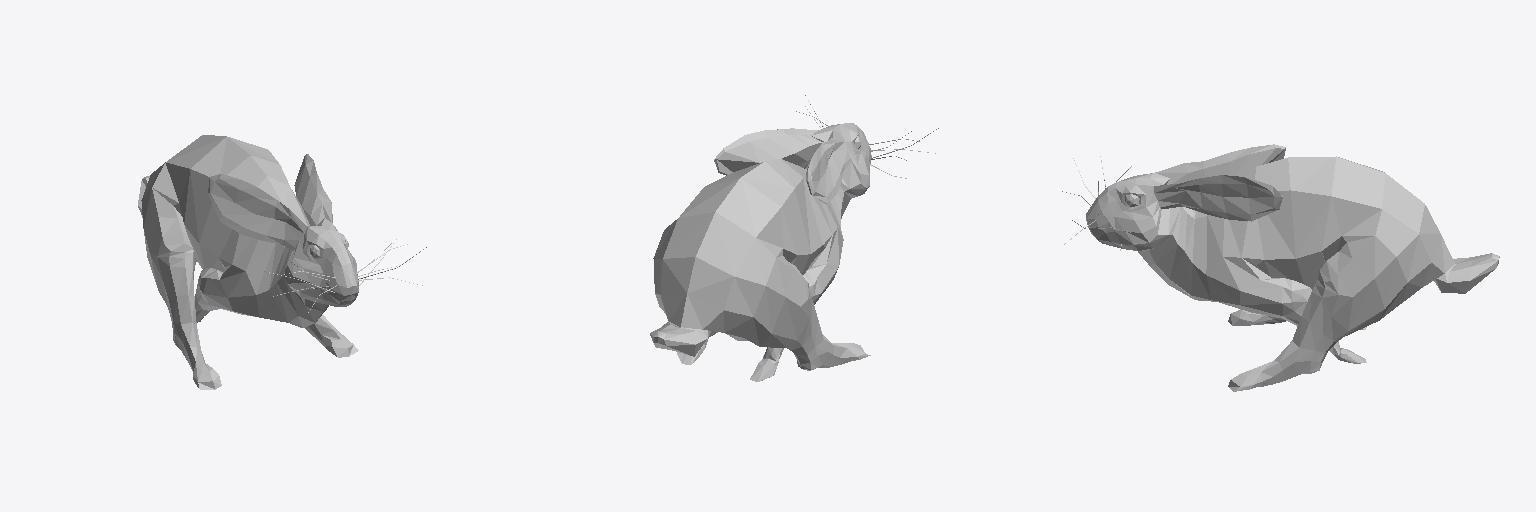
Rendered from rabbit_14.obj.
3 views of the same model, side by side, from view 1: azimuth 30°, elevation 25°; view 2: azimuth 150°, elevation 25°; view 3: azimuth 270°, elevation 25° (orthographic).
Parts seen in each view (by area): view 1: Rabbit_Cylinder; view 2: Rabbit_Cylinder; view 3: Rabbit_Cylinder.
Boxes of the visible parts, <box> form: Rabbit_Cylinder: <box>138,135,426,389</box>; Rabbit_Cylinder: <box>650,95,938,381</box>; Rabbit_Cylinder: <box>1062,144,1499,391</box>.
Bounding box in the file's own units: 8.03 × 9.55 × 19.18.